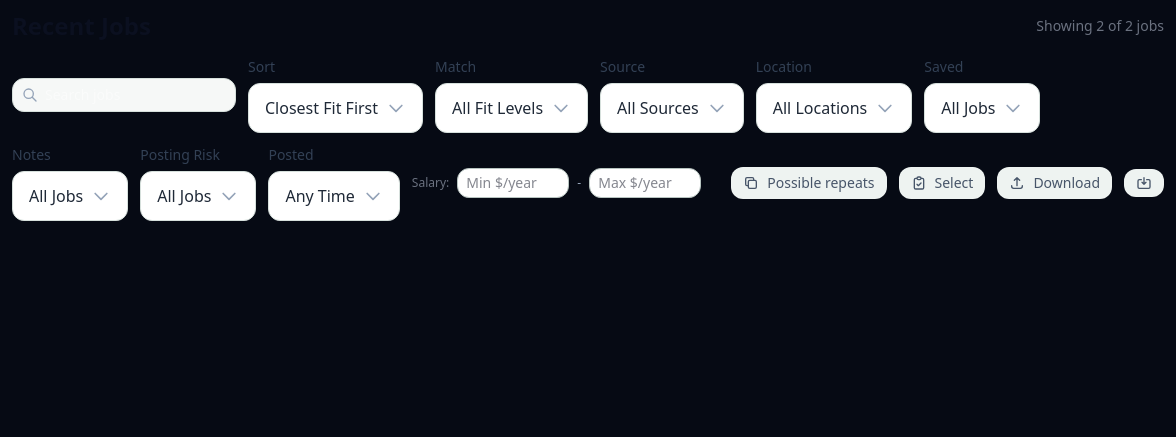
Test case: DashboardFiltersBar plain-language actions › uses plain search and download copy for the default toolbar
expect the button with aria-label "Download job list" is shown: met, box [997, 167, 1112, 199]
Focus the field labelled "Search jobs". click: [124, 95]
box: [12, 78, 236, 112]
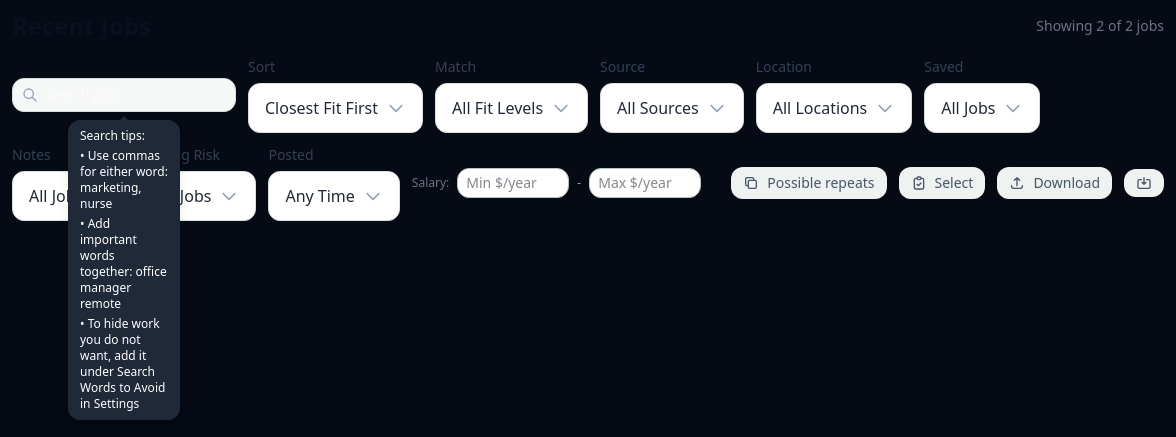
expect the text "Search Words to Avoid in Settings" is shown: met, box [80, 315, 165, 412]
